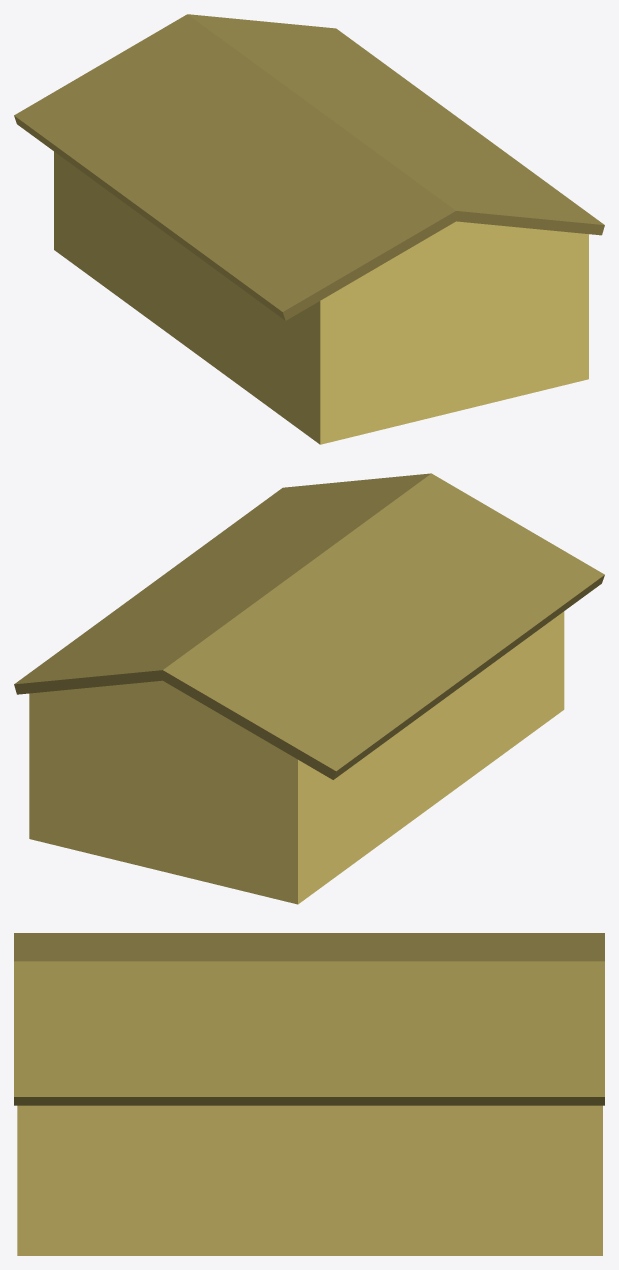
The model's file is result.glb.
3 views of the same model, one above another, from view 1: azimuth 30°, elevation 25°; view 2: azimuth 150°, elevation 25°; view 3: azimuth 270°, elevation 25° (orthographic). The views are drawn at different scales.
Visible parts, largest first — view 1: 9da80082-a2a2-430f-8a18-6bd4d4ade192__undefined (×2), 13ec18a0-b512-43bf-bbcb-441a2dbd632d__undefined; view 2: 9da80082-a2a2-430f-8a18-6bd4d4ade192__undefined (×2), 13ec18a0-b512-43bf-bbcb-441a2dbd632d__undefined; view 3: 9da80082-a2a2-430f-8a18-6bd4d4ade192__undefined (×2), 13ec18a0-b512-43bf-bbcb-441a2dbd632d__undefined.
Boxes of the visible parts, x1,y1,x2,y2 form: 9da80082-a2a2-430f-8a18-6bd4d4ade192__undefined (×2): [14, 14, 604, 320]; 13ec18a0-b512-43bf-bbcb-441a2dbd632d__undefined: [54, 151, 588, 444]; 9da80082-a2a2-430f-8a18-6bd4d4ade192__undefined (×2): [14, 473, 604, 779]; 13ec18a0-b512-43bf-bbcb-441a2dbd632d__undefined: [29, 611, 564, 904]; 9da80082-a2a2-430f-8a18-6bd4d4ade192__undefined (×2): [14, 933, 604, 1105]; 13ec18a0-b512-43bf-bbcb-441a2dbd632d__undefined: [17, 1105, 602, 1255].
Bounding box in the file's own units: 838 × 503 × 1211.
